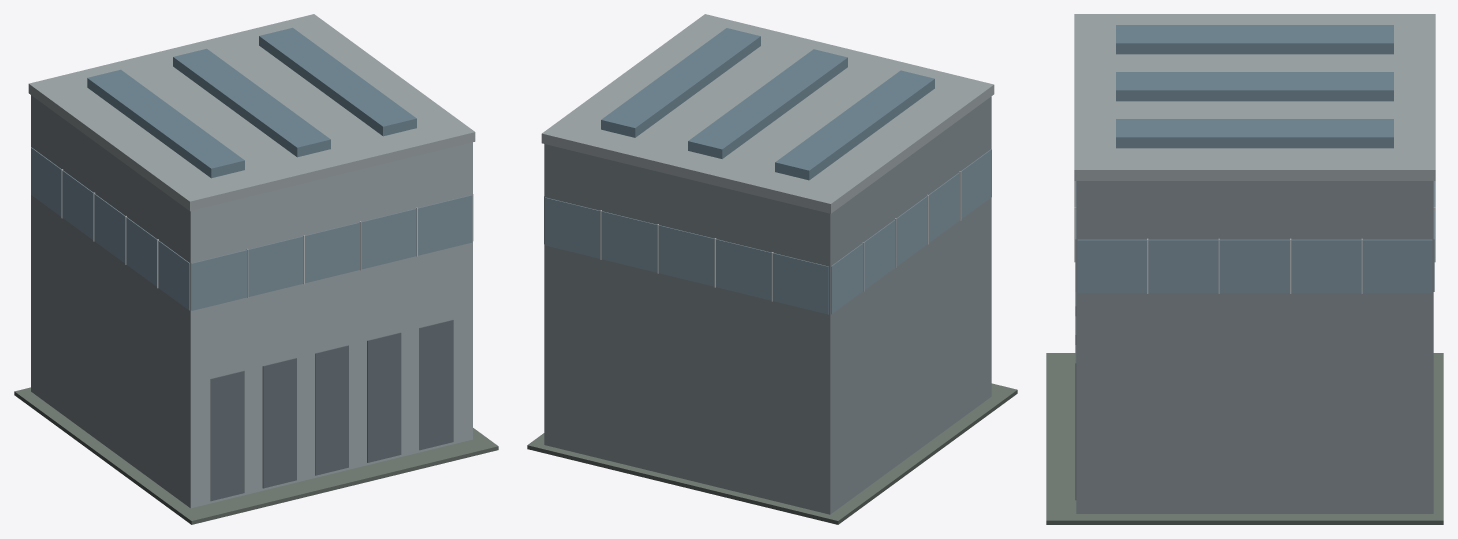
File: industrial-logistics.glb
3 views of the same model, side by side, from view 1: azimuth 30°, elevation 25°; view 2: azimuth 150°, elevation 25°; view 3: azimuth 270°, elevation 25° (orthographic). The views are drawn at different scales.
Visible parts, largest first — view 1: industrial-logistics; view 2: industrial-logistics; view 3: industrial-logistics.
Boxes of the visible parts, left/top/right/bottom form: industrial-logistics: left=14, top=14, right=498, bottom=524; industrial-logistics: left=527, top=14, right=1017, bottom=524; industrial-logistics: left=1046, top=14, right=1443, bottom=524.
Size of the model in its own units: 1 by 1 by 1.
